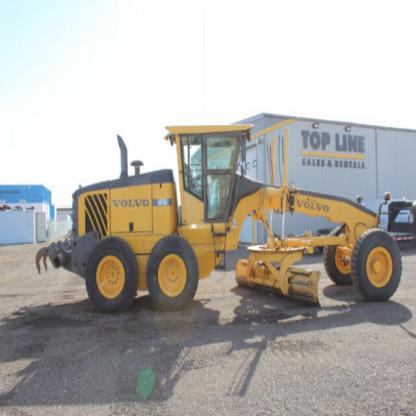bull_dozer/loader/grader: (40, 116, 407, 318)
